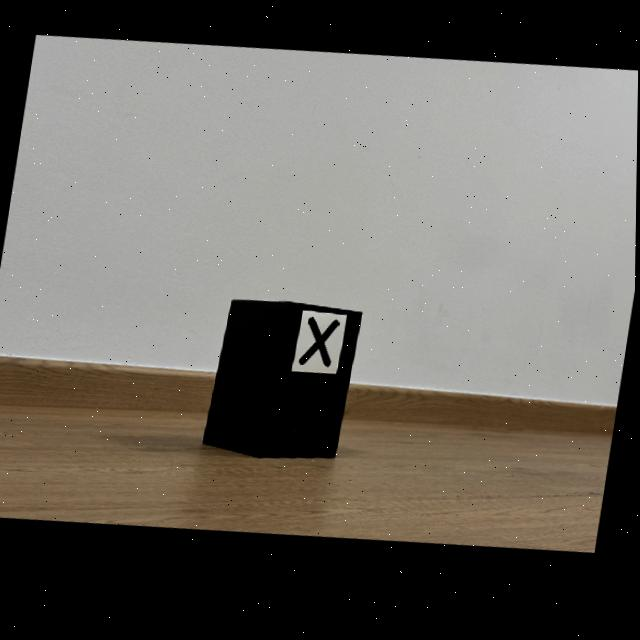X: (301, 323, 340, 372)
